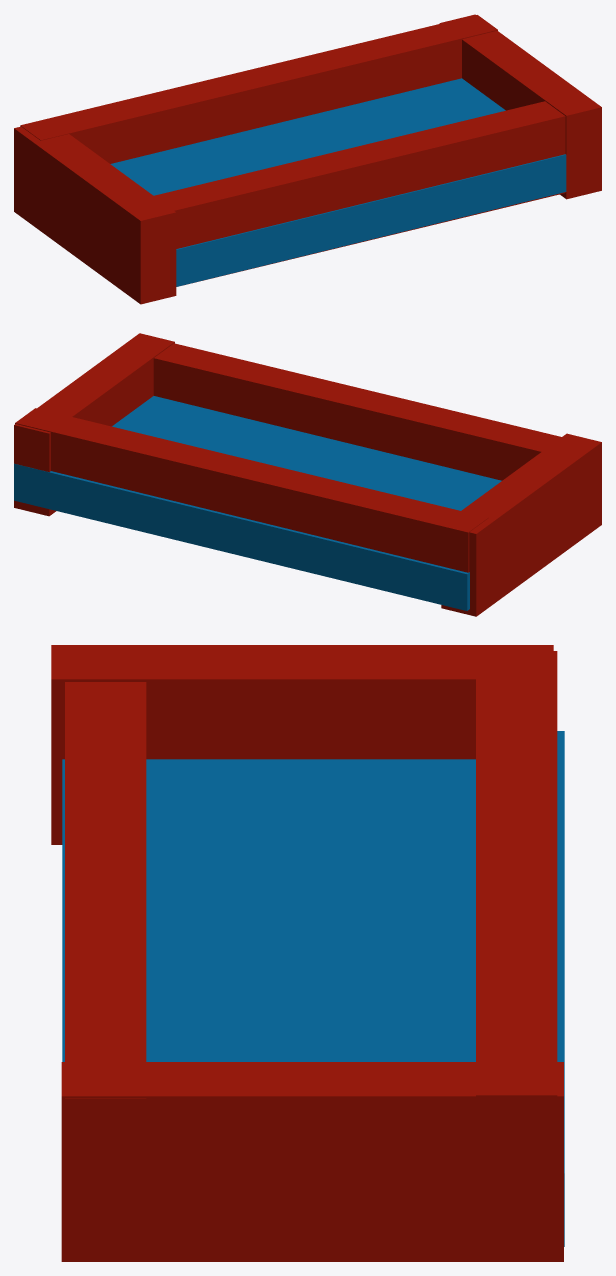
Rendered from board1.obj.
3 renders of one model, top to bottom at view 1: azimuth 30°, elevation 25°; view 2: azimuth 150°, elevation 25°; view 3: azimuth 270°, elevation 25°, orthographic. The views are drawn at different scales.
Parts seen in each view (by area): view 1: Cube, Cube.002_Cube.003, Cube.001_Cube.004, Cube.003_Cube.005, Cube.004_Cube.006; view 2: Cube, Cube.002_Cube.003, Cube.001_Cube.004, Cube.003_Cube.005, Cube.004_Cube.006; view 3: Cube, Cube.004_Cube.006, Cube.002_Cube.003, Cube.003_Cube.005, Cube.001_Cube.004.
Part boxes in pixels (box(x1,y1,x2,y2)): Cube: box(110, 78, 566, 286); Cube.002_Cube.003: box(20, 15, 497, 163); Cube.001_Cube.004: box(154, 101, 565, 285); Cube.003_Cube.005: box(14, 126, 176, 304); Cube.004_Cube.006: box(439, 14, 601, 199); Cube: box(14, 396, 501, 610); Cube.002_Cube.003: box(15, 408, 488, 572); Cube.001_Cube.004: box(153, 343, 561, 480); Cube.003_Cube.005: box(441, 433, 601, 616); Cube.004_Cube.006: box(14, 333, 174, 516); Cube: box(62, 731, 564, 1246); Cube.004_Cube.006: box(61, 1062, 563, 1261); Cube.002_Cube.003: box(476, 651, 557, 1247); Cube.003_Cube.005: box(51, 645, 553, 844); Cube.001_Cube.004: box(65, 682, 146, 1250).
Size of the model in its own units: 4.23 by 0.7426 by 2.04.
